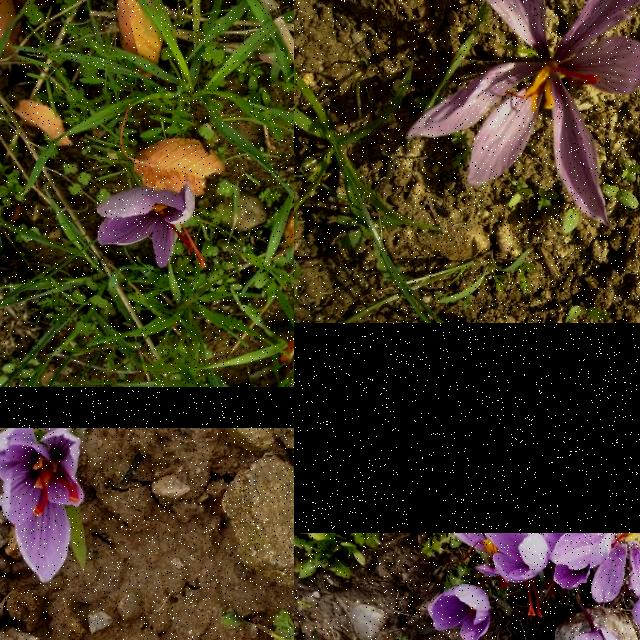flower: (405, 0, 640, 225), (0, 428, 84, 582), (96, 185, 206, 269), (426, 585, 491, 640)
overlap: (454, 534, 640, 618)
